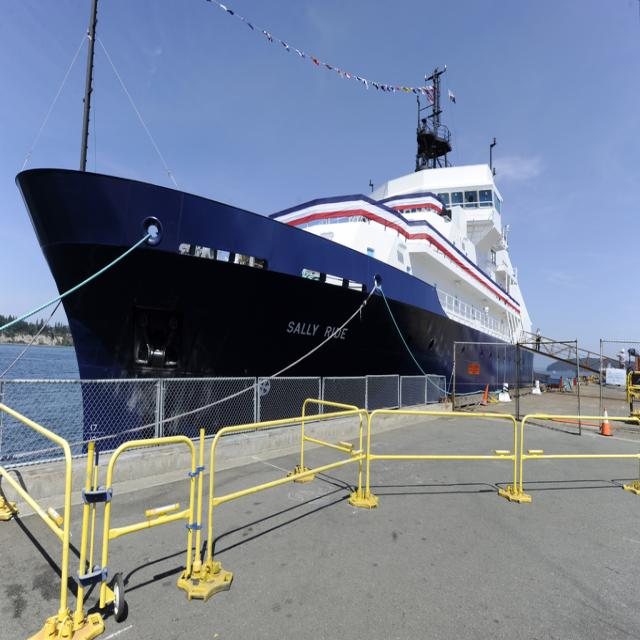Boat: (9, 20, 580, 525)
